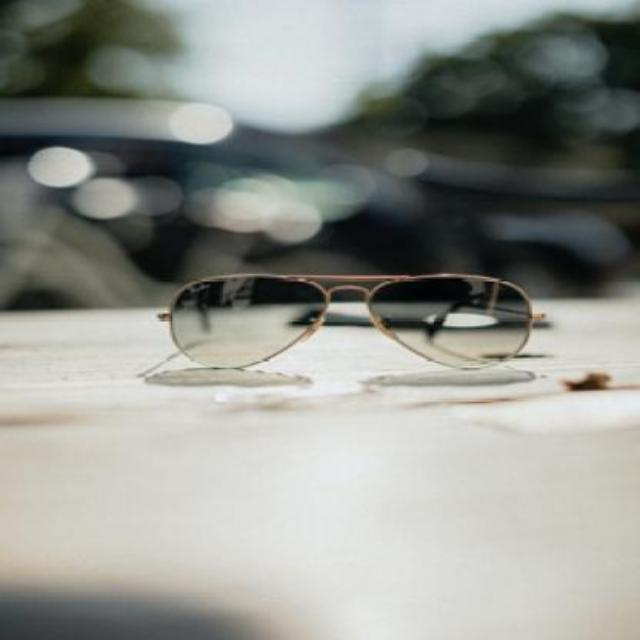sunglasses: (155, 272, 550, 372)
